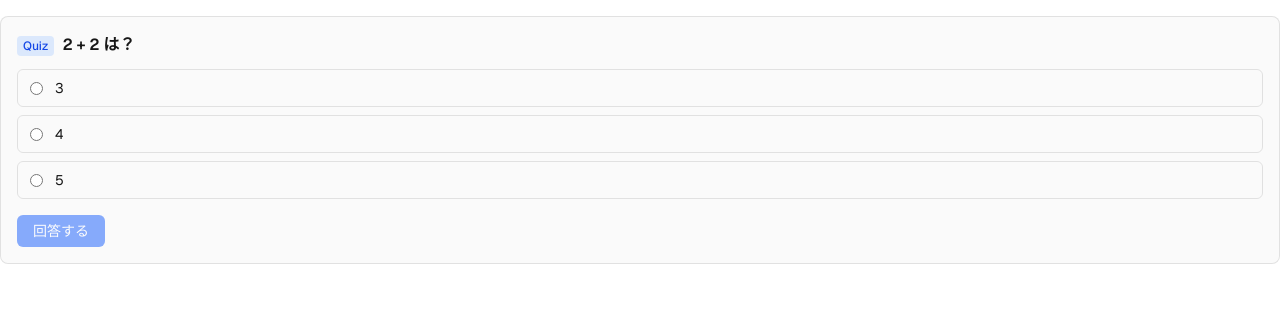
Test case: <Quiz> 回答→即時採点→解説表示 › 単一選択で誤答を選ぶと『不正解』になる
Click the radio button labelled "3" at (36, 88), box [30,82,43,94]
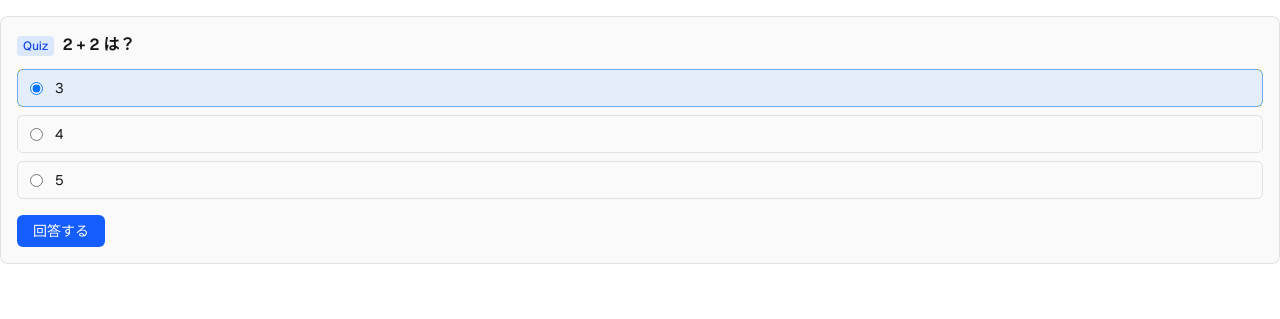
Click the button "回答する" at (61, 231), box [17,215,105,247]
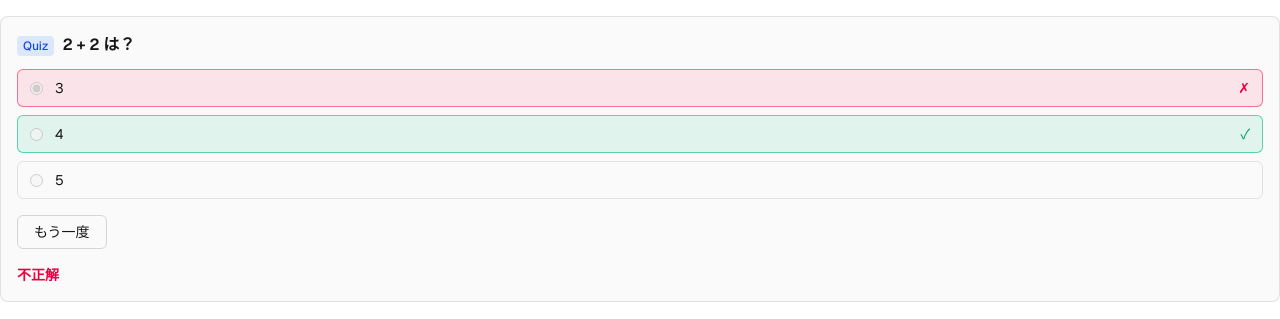
Result: the text "不正解" is shown at [17,266,59,284]
